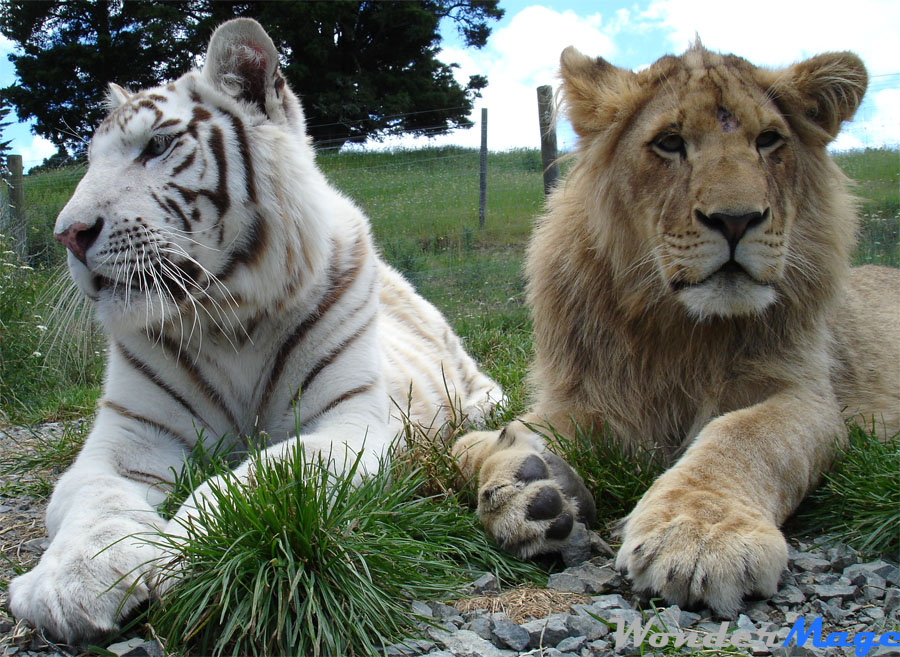lion: (445, 46, 900, 611)
tiger: (9, 17, 505, 635)
